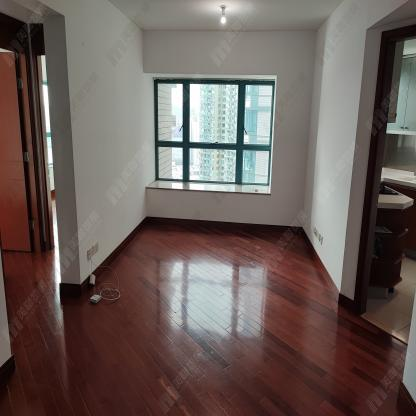Windowsill: (143, 73, 278, 197)
